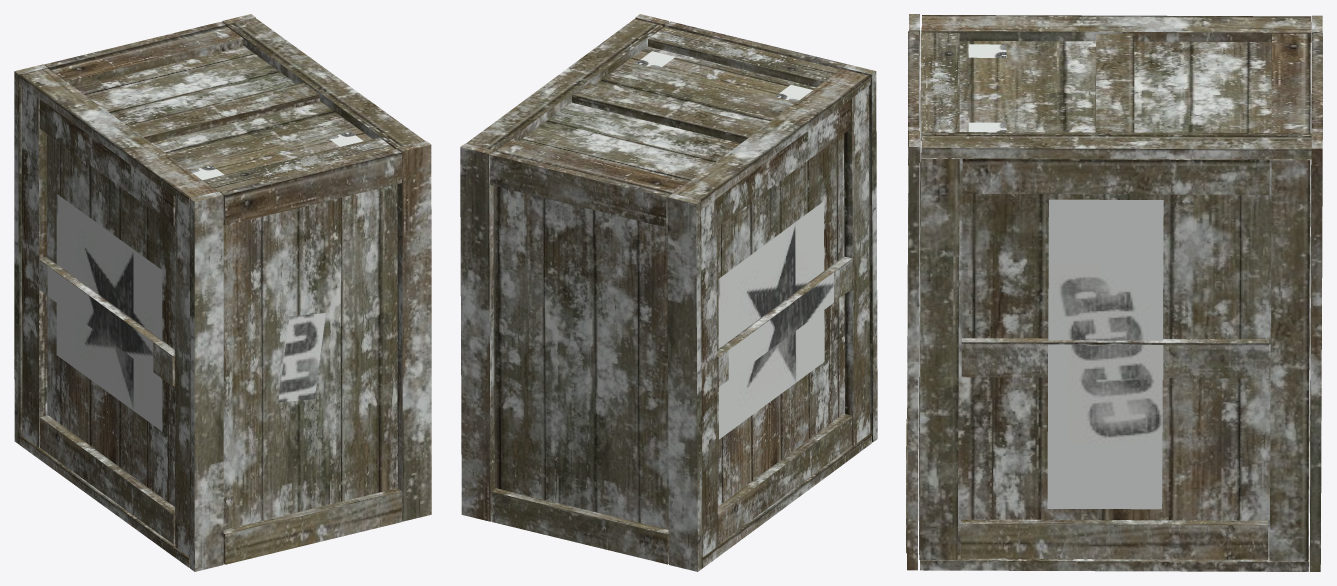
The model's file is prop_crate_dak5_russian.glb.
The picture shows the model from 3 angles, left to right: view 1: azimuth 30°, elevation 25°; view 2: azimuth 150°, elevation 25°; view 3: azimuth 270°, elevation 25°; orthographic projection. The views are drawn at different scales.
Bounding box in the file's own units: 24.4 × 36.19 × 32.1.
2 materials, 2 textured.
